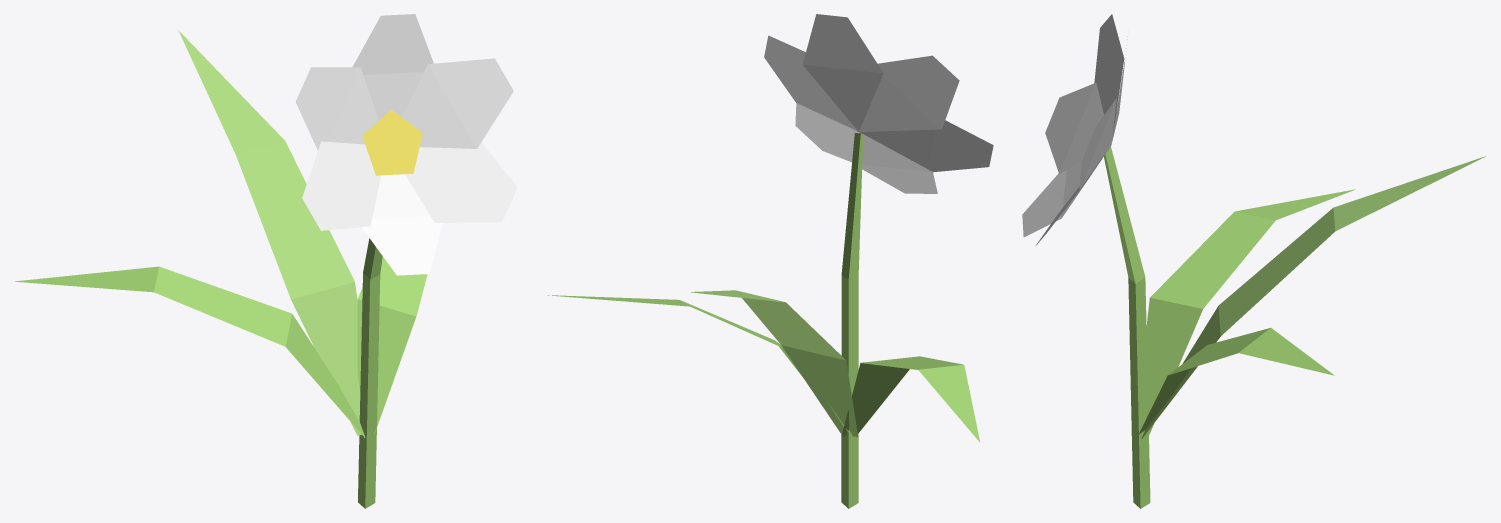
File: Flower_e_TwoS_08.fbx
3 views of the same model, side by side, from view 1: azimuth 30°, elevation 25°; view 2: azimuth 150°, elevation 25°; view 3: azimuth 270°, elevation 25° (orthographic). The views are drawn at different scales.
Visible parts, largest first — view 1: Flower_e_TwoS_08; view 2: Flower_e_TwoS_08; view 3: Flower_e_TwoS_08.
Part boxes in pixels (x1,y1,x2,y2): Flower_e_TwoS_08: [15, 14, 517, 508]; Flower_e_TwoS_08: [547, 14, 993, 508]; Flower_e_TwoS_08: [1022, 14, 1486, 508].
Size of the model in its own units: 0.4139 by 0.428 by 0.3729.
